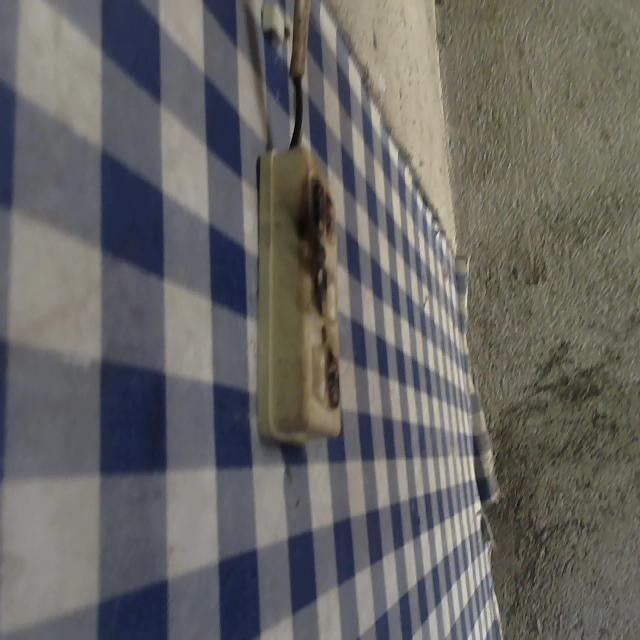-: (304, 164, 337, 245), (324, 342, 342, 410), (309, 259, 329, 320)
